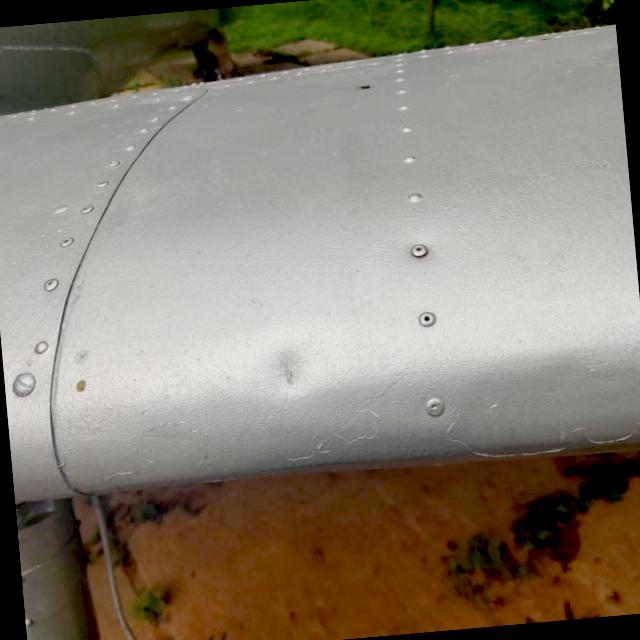dent: (237, 316, 346, 422)
